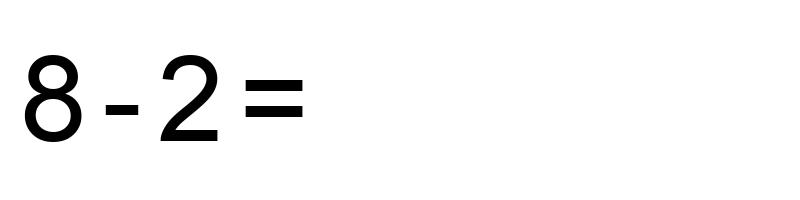-: (102, 32, 142, 167)
2: (157, 32, 224, 167)
8: (20, 32, 87, 167)
=: (239, 32, 309, 167)
